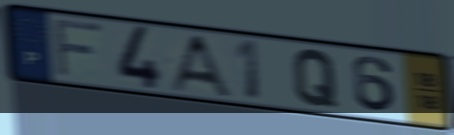1: (232, 37, 261, 102)
4: (115, 23, 164, 92)
6: (350, 54, 398, 114)
A: (165, 32, 236, 100)
F: (51, 16, 106, 80)
Q: (291, 47, 340, 110)
